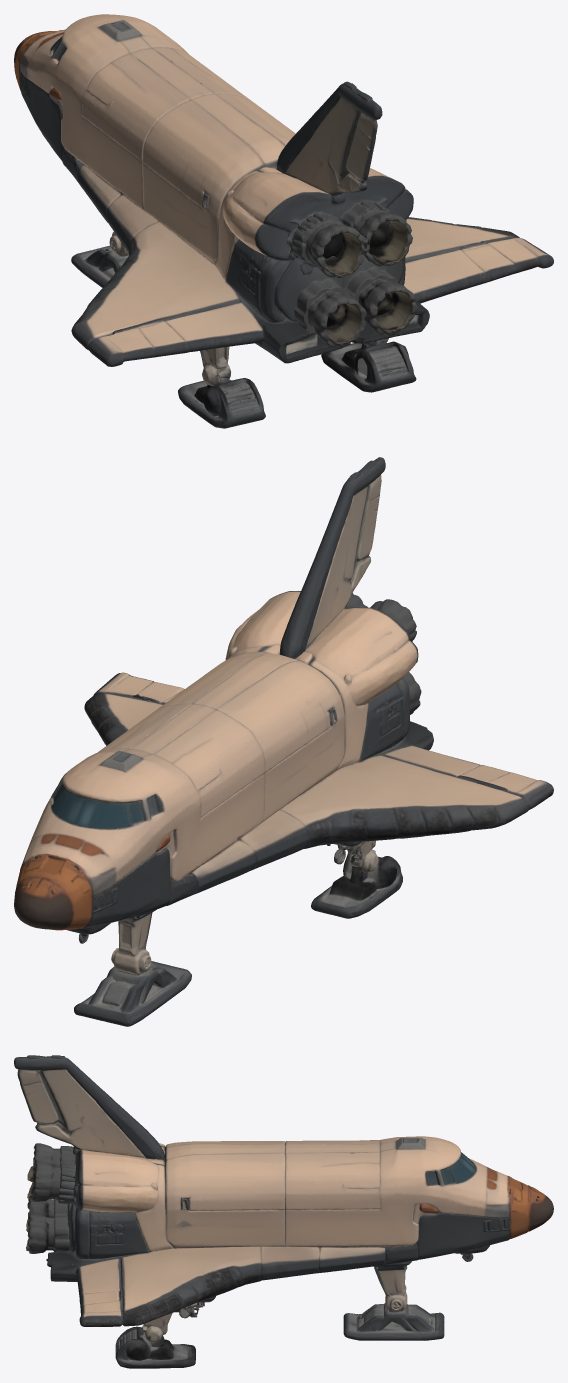
The model's file is shuttle.glb.
3 renders of one model, top to bottom at view 1: azimuth 30°, elevation 25°; view 2: azimuth 150°, elevation 25°; view 3: azimuth 270°, elevation 25°, orthographic. The views are drawn at different scales.
Parts seen in each view (by area): view 1: geometry_0; view 2: geometry_0; view 3: geometry_0.
Part boxes in pixels (bbox=[...]): geometry_0: bbox=[14, 14, 553, 428]; geometry_0: bbox=[14, 457, 553, 1026]; geometry_0: bbox=[14, 1055, 553, 1368].
Size of the model in its own units: 0.7234 by 0.5624 by 0.9999.
Materials: 1 (1 with a texture image).
